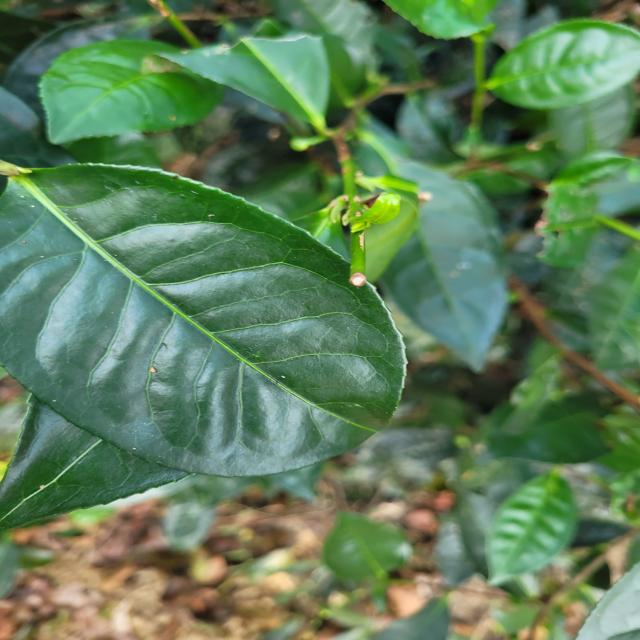Category D(7+ days, Not for Tea): (2, 140, 421, 497)
